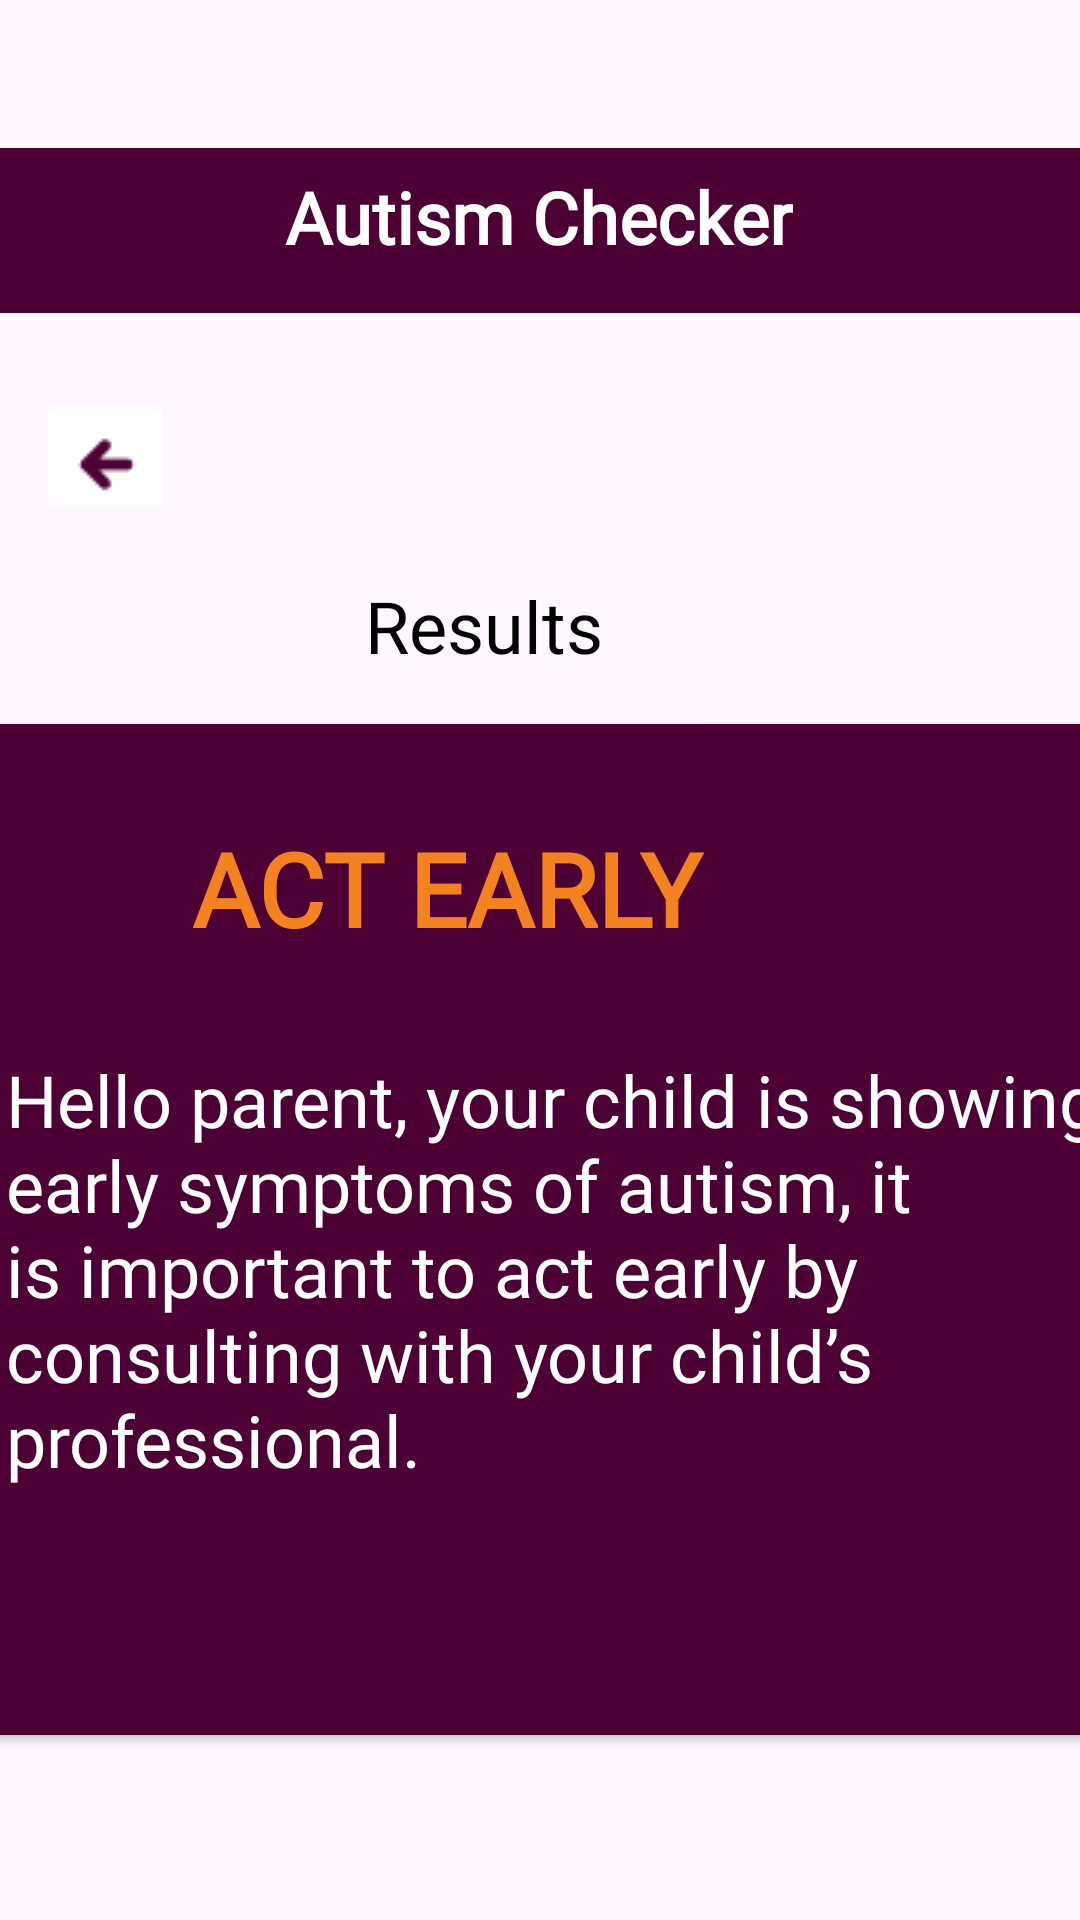

Icon bounding boxes for this 1080 × 1920 phone screenshot, format (x1, y1, x2, y2):
backarrow: (78, 438, 135, 491)
